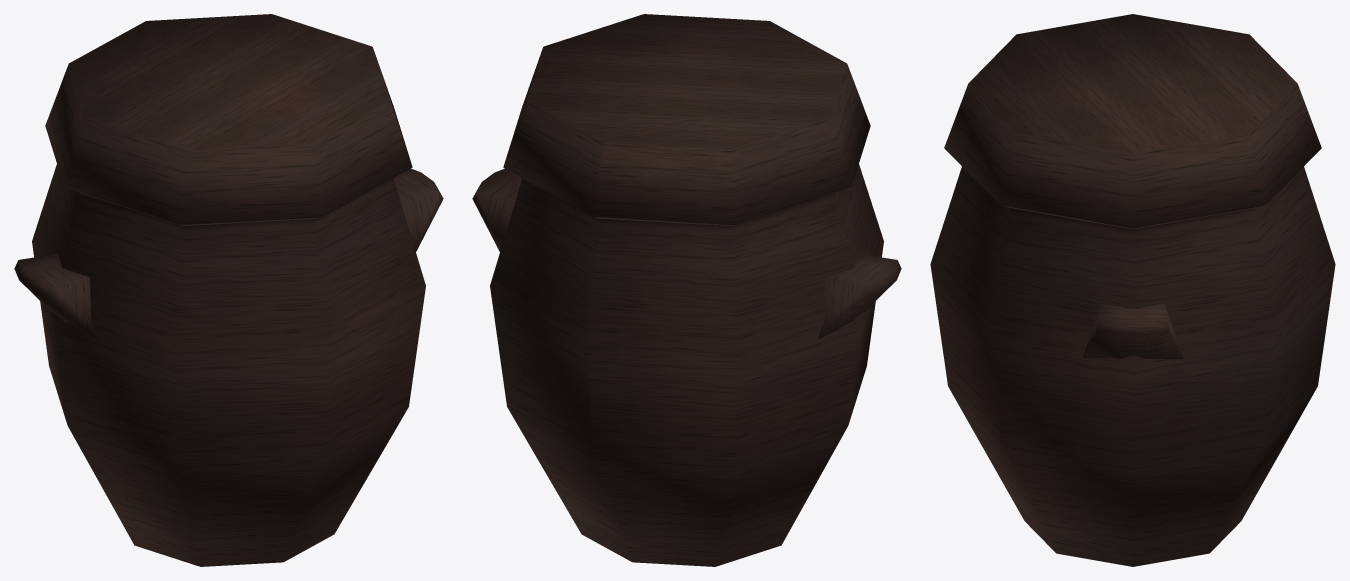
File: jangdokdae.fbx
The picture shows the model from 3 angles, left to right: view 1: azimuth 30°, elevation 25°; view 2: azimuth 150°, elevation 25°; view 3: azimuth 270°, elevation 25°; orthographic projection.
Parts seen in each view (by area): view 1: jangdokdae; view 2: jangdokdae; view 3: jangdokdae.
Part boxes in pixels (bbox=[...]): jangdokdae: bbox=[14, 14, 443, 566]; jangdokdae: bbox=[472, 14, 901, 566]; jangdokdae: bbox=[930, 14, 1335, 566].
Bounding box in the file's own units: 130 × 134 × 113.
